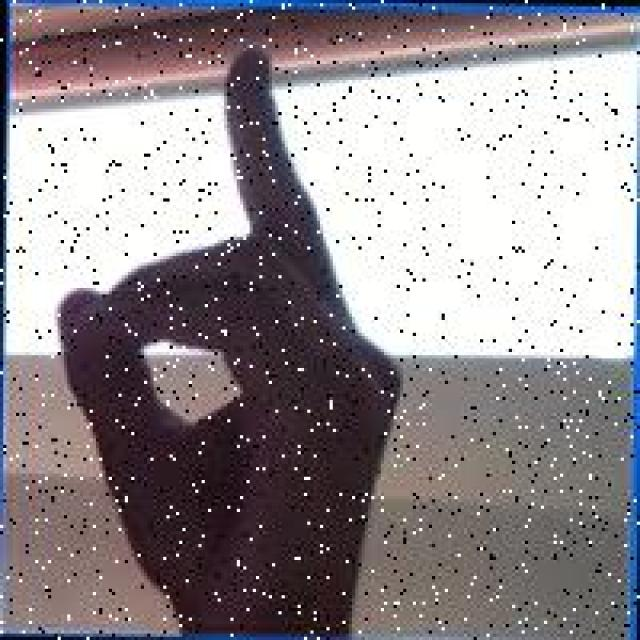D: (48, 32, 419, 637)
